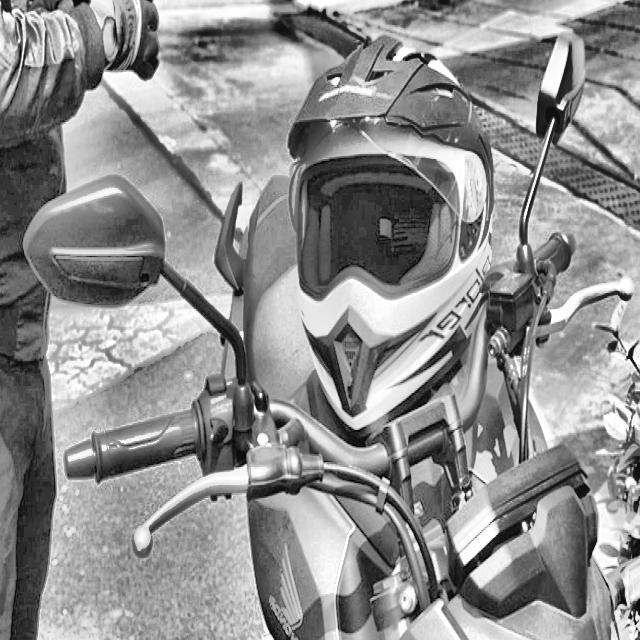Helmet: (284, 37, 498, 440)
